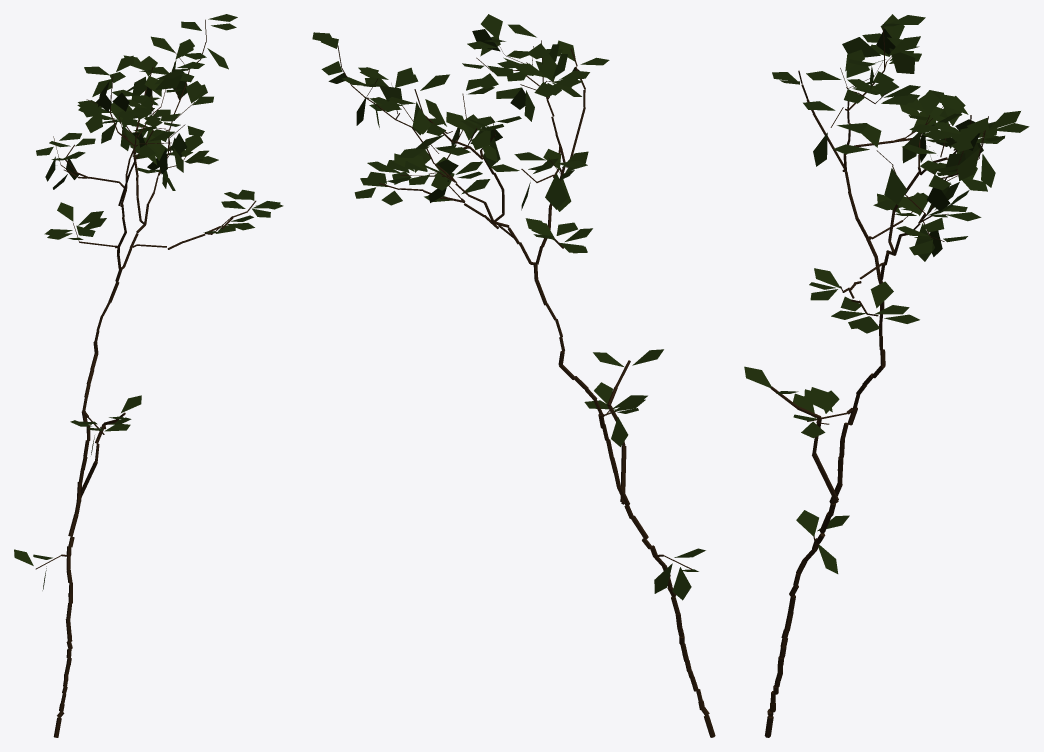
Rendered from tree_501.obj.
3 views of the same model, side by side, from view 1: azimuth 30°, elevation 25°; view 2: azimuth 150°, elevation 25°; view 3: azimuth 270°, elevation 25° (orthographic). The views are drawn at different scales.
Parts seen in each view (by area): view 1: Leaves, TrunkAndBranches; view 2: Leaves, TrunkAndBranches; view 3: Leaves, TrunkAndBranches.
Boxes of the visible parts, x1,y1,x2,y2 form: Leaves: [14, 14, 283, 590]; TrunkAndBranches: [35, 19, 256, 737]; Leaves: [312, 14, 705, 600]; TrunkAndBranches: [337, 40, 715, 737]; Leaves: [744, 14, 1029, 573]; TrunkAndBranches: [764, 24, 988, 737].
Bounding box in the file's own units: 3.05 × 6.43 × 2.1.
